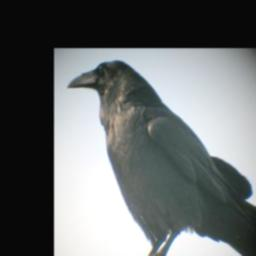Crow: (66, 58, 256, 256)
